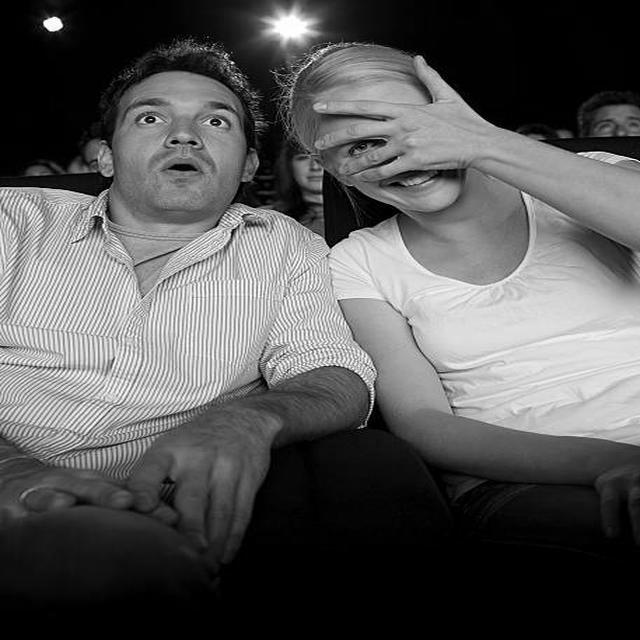Fear: (115, 72, 246, 213)
